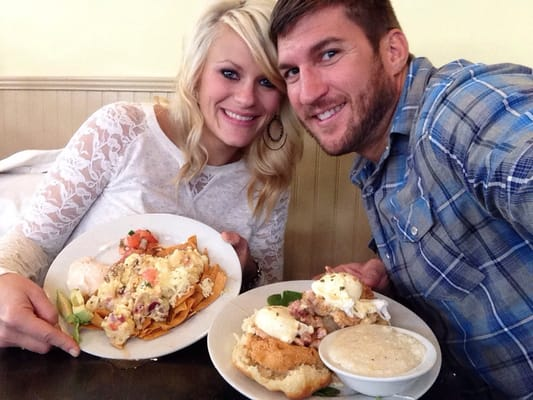sushi: (318, 319, 441, 398)
